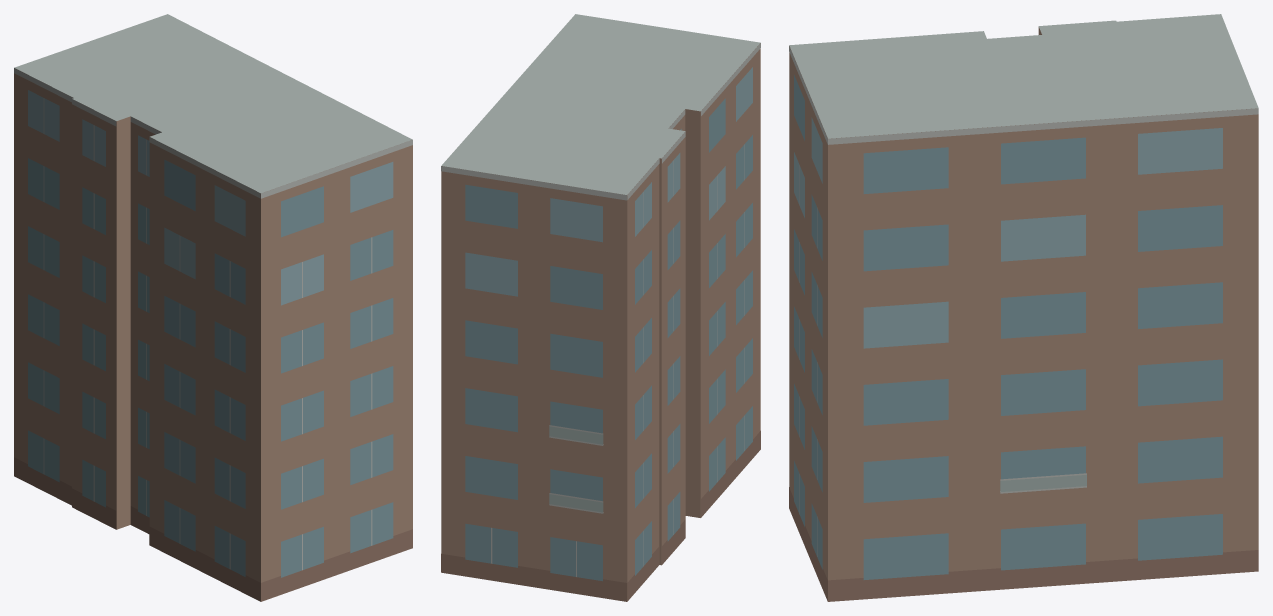
File: survey-upis-32707833.glb
3 views of the same model, side by side, from view 1: azimuth 30°, elevation 25°; view 2: azimuth 150°, elevation 25°; view 3: azimuth 270°, elevation 25° (orthographic). The views are drawn at different scales.
Visible parts, largest first — view 1: survey-upis-32707833.tmp; view 2: survey-upis-32707833.tmp; view 3: survey-upis-32707833.tmp.
Part boxes in pixels (<box>): survey-upis-32707833.tmp: <box>14,14,412,601</box>; survey-upis-32707833.tmp: <box>441,14,760,601</box>; survey-upis-32707833.tmp: <box>789,14,1258,601</box>.
Bounding box in the file's own units: 10.57 × 18.3 × 16.82.
